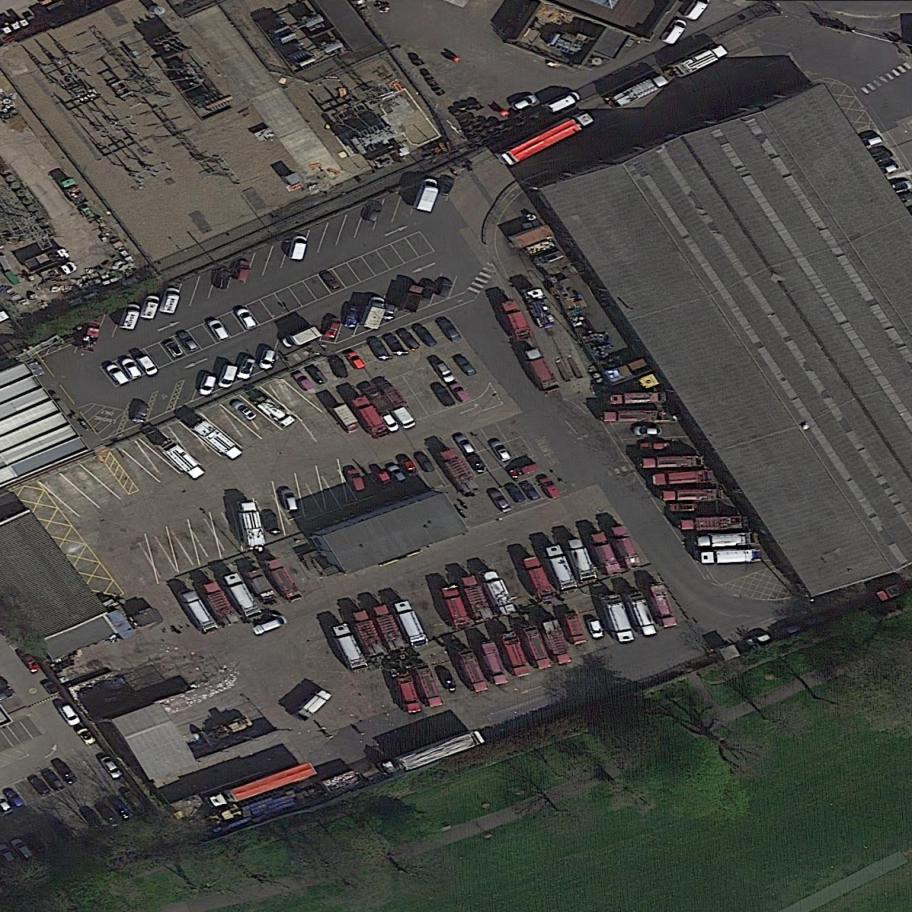large-vehicle: (491, 105, 598, 173), (203, 759, 320, 814), (376, 726, 488, 782), (185, 412, 248, 467), (152, 429, 210, 488), (216, 564, 267, 629), (434, 440, 485, 505), (601, 70, 673, 115), (661, 40, 731, 86), (344, 387, 395, 447), (260, 551, 306, 610), (197, 574, 242, 633), (477, 562, 521, 621), (176, 583, 220, 640), (520, 342, 563, 400), (389, 595, 431, 652), (249, 388, 299, 435), (370, 599, 409, 658), (599, 590, 638, 649), (330, 619, 370, 676), (586, 525, 626, 582), (541, 539, 580, 597), (349, 604, 388, 661), (457, 570, 496, 627), (622, 586, 661, 642), (562, 532, 600, 587), (519, 282, 558, 335), (520, 551, 557, 606), (538, 614, 574, 670), (497, 294, 535, 347), (609, 519, 645, 574), (290, 682, 334, 727), (437, 579, 474, 632), (477, 637, 512, 691), (498, 628, 533, 682), (242, 562, 281, 610), (235, 497, 269, 552), (390, 665, 425, 718), (410, 660, 445, 713), (456, 645, 491, 698), (520, 622, 555, 675), (645, 580, 680, 632), (327, 398, 365, 442), (21, 245, 72, 277), (373, 373, 410, 416), (277, 321, 323, 355), (359, 378, 396, 420), (677, 514, 750, 534), (650, 467, 716, 489), (56, 172, 91, 212), (410, 174, 443, 216), (357, 292, 389, 333), (637, 453, 706, 471), (692, 531, 760, 549), (696, 548, 763, 566), (660, 487, 725, 505), (561, 608, 589, 649), (36, 260, 80, 286), (603, 390, 668, 407), (600, 409, 677, 423), (398, 280, 427, 316), (79, 318, 104, 354)
small-vehicle: (541, 87, 585, 119), (658, 13, 690, 51), (93, 796, 124, 831), (107, 792, 138, 826), (485, 483, 515, 518), (429, 377, 459, 412), (250, 612, 290, 638), (120, 785, 150, 819), (98, 750, 127, 785), (55, 698, 84, 732), (389, 401, 418, 435), (411, 320, 441, 352), (8, 833, 37, 866), (435, 314, 464, 347), (117, 299, 144, 334), (228, 396, 259, 426), (117, 352, 145, 385), (382, 329, 410, 361), (431, 356, 459, 388), (536, 471, 563, 504), (158, 284, 184, 318), (53, 758, 81, 789), (21, 829, 49, 860), (103, 359, 131, 390), (133, 350, 161, 381), (507, 459, 542, 483), (395, 325, 423, 355), (446, 377, 473, 408), (17, 647, 43, 679), (366, 334, 392, 366), (770, 619, 804, 643), (233, 303, 259, 334), (452, 429, 478, 460), (488, 435, 514, 466), (452, 350, 478, 381), (26, 771, 53, 800), (741, 629, 775, 652), (40, 766, 66, 796), (465, 449, 491, 479), (530, 248, 567, 269), (508, 90, 539, 115), (373, 466, 398, 497), (802, 608, 837, 630), (304, 361, 331, 389), (291, 367, 317, 396), (386, 460, 411, 490), (412, 447, 437, 477), (397, 453, 421, 484), (503, 479, 528, 508), (82, 807, 107, 836), (139, 292, 162, 323), (342, 301, 365, 332), (216, 361, 239, 392), (318, 267, 343, 295), (518, 477, 543, 505), (176, 328, 201, 356), (211, 264, 235, 293), (206, 315, 230, 344), (236, 353, 259, 383), (437, 665, 459, 696), (361, 199, 385, 227), (3, 785, 27, 813), (328, 353, 351, 382), (346, 466, 368, 496), (288, 232, 309, 263), (230, 257, 253, 285), (584, 614, 606, 643), (197, 370, 219, 399), (75, 724, 99, 750), (162, 336, 186, 362), (379, 410, 402, 437), (344, 348, 367, 375), (278, 486, 300, 514), (261, 509, 282, 537), (258, 345, 279, 373), (130, 399, 151, 426), (865, 147, 894, 166), (418, 278, 439, 304), (323, 315, 344, 341), (437, 174, 456, 201), (434, 276, 455, 300), (856, 133, 883, 151), (638, 441, 674, 453), (41, 678, 61, 699), (875, 162, 901, 177), (632, 425, 664, 437), (382, 303, 397, 324)
